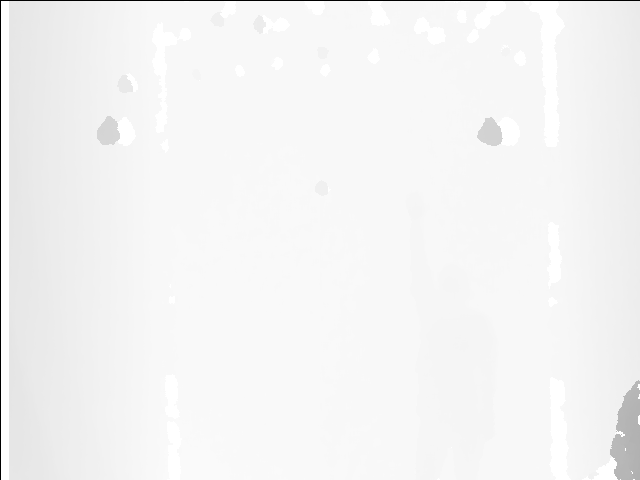hand: (406, 190, 434, 229)
